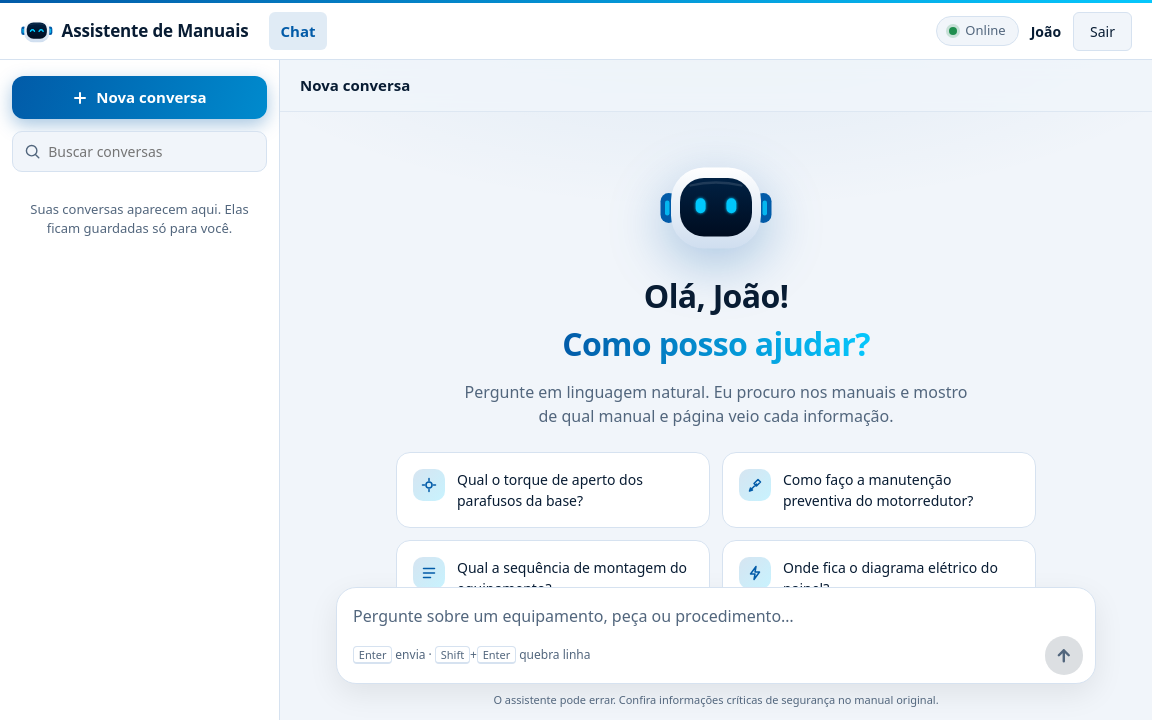
it: <App /> › navigation › lets local users change their own password
Click the link "João": (1046, 31) [1031,20,1061,42]
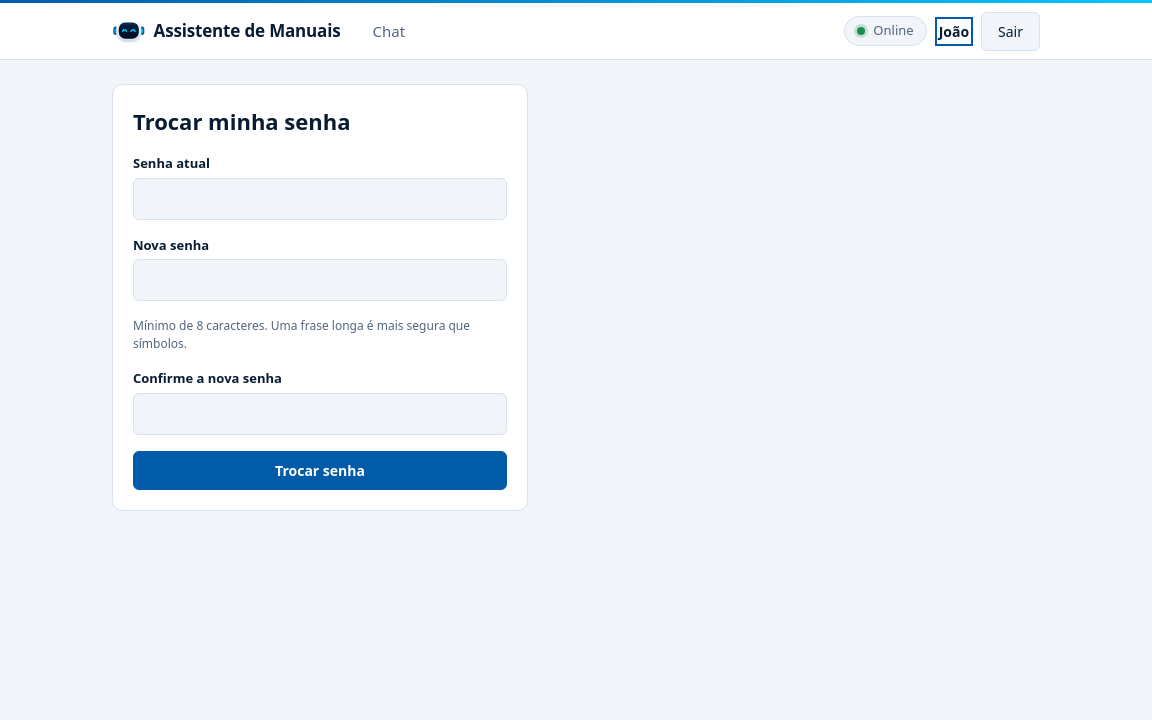
Expected: the heading "Trocar minha senha" is shown, [133,106,350,136]
